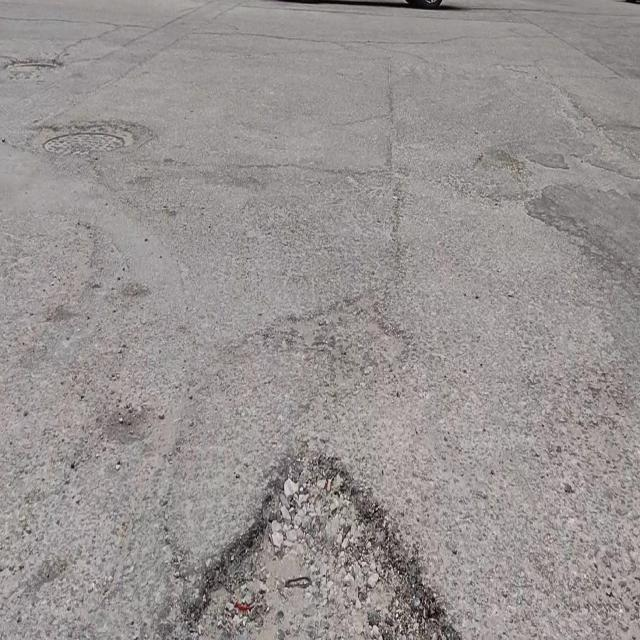Potholes: (172, 453, 463, 640)
